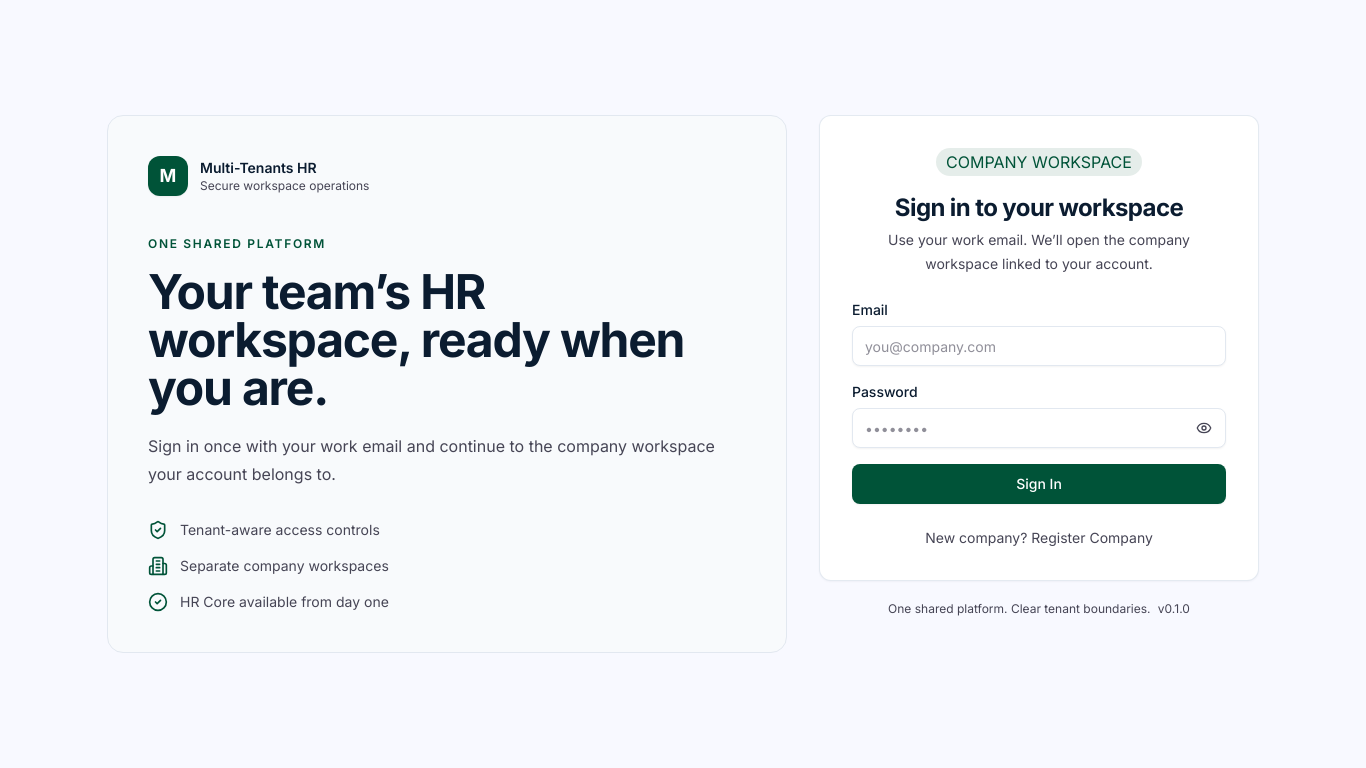
Test: public login on the marketing host › rejects an account with no active membership
The width and height of the screenshot is (1366, 768).
Type "james@hr.com" into the field labelled "Email" at (1039, 346), box left=852, top=326, right=1226, bottom=366
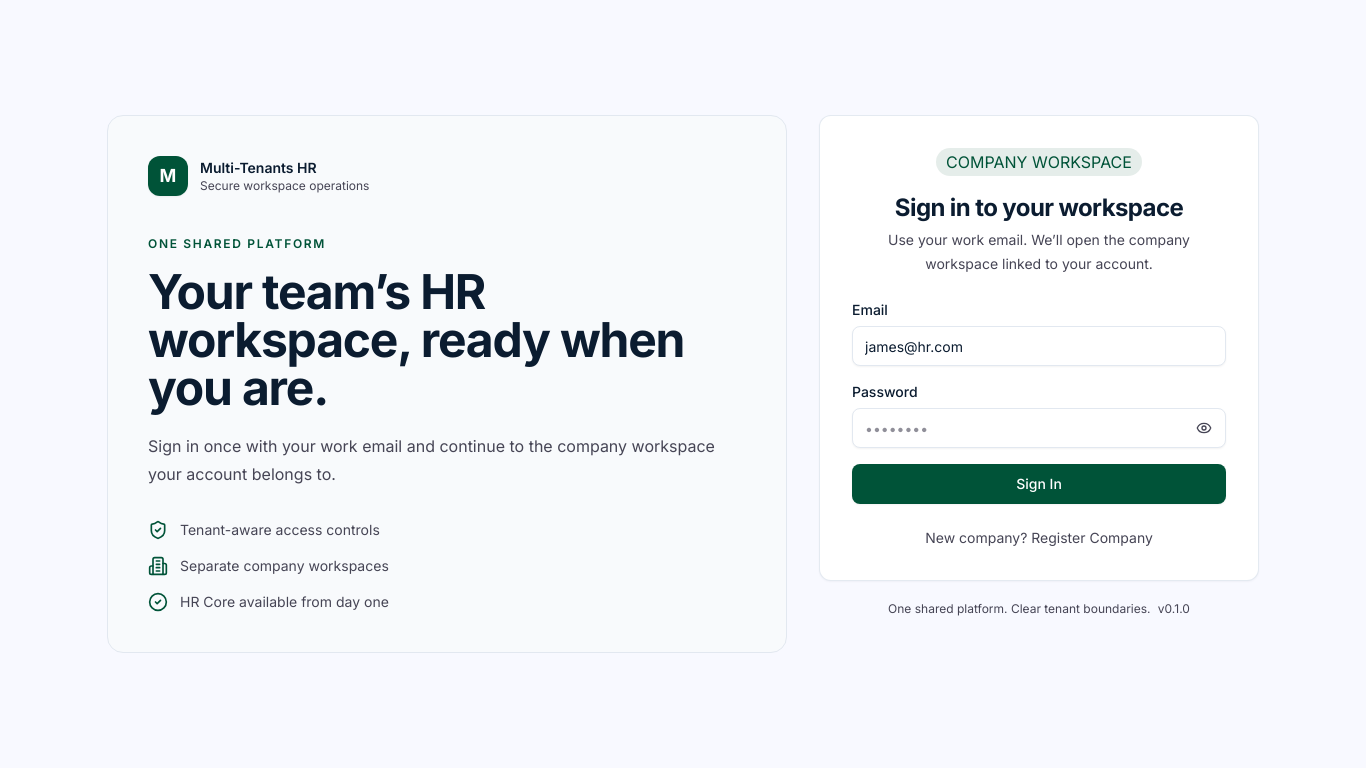
Type "password123" into the password field labelled "Password" at (1039, 428), box left=852, top=408, right=1226, bottom=448
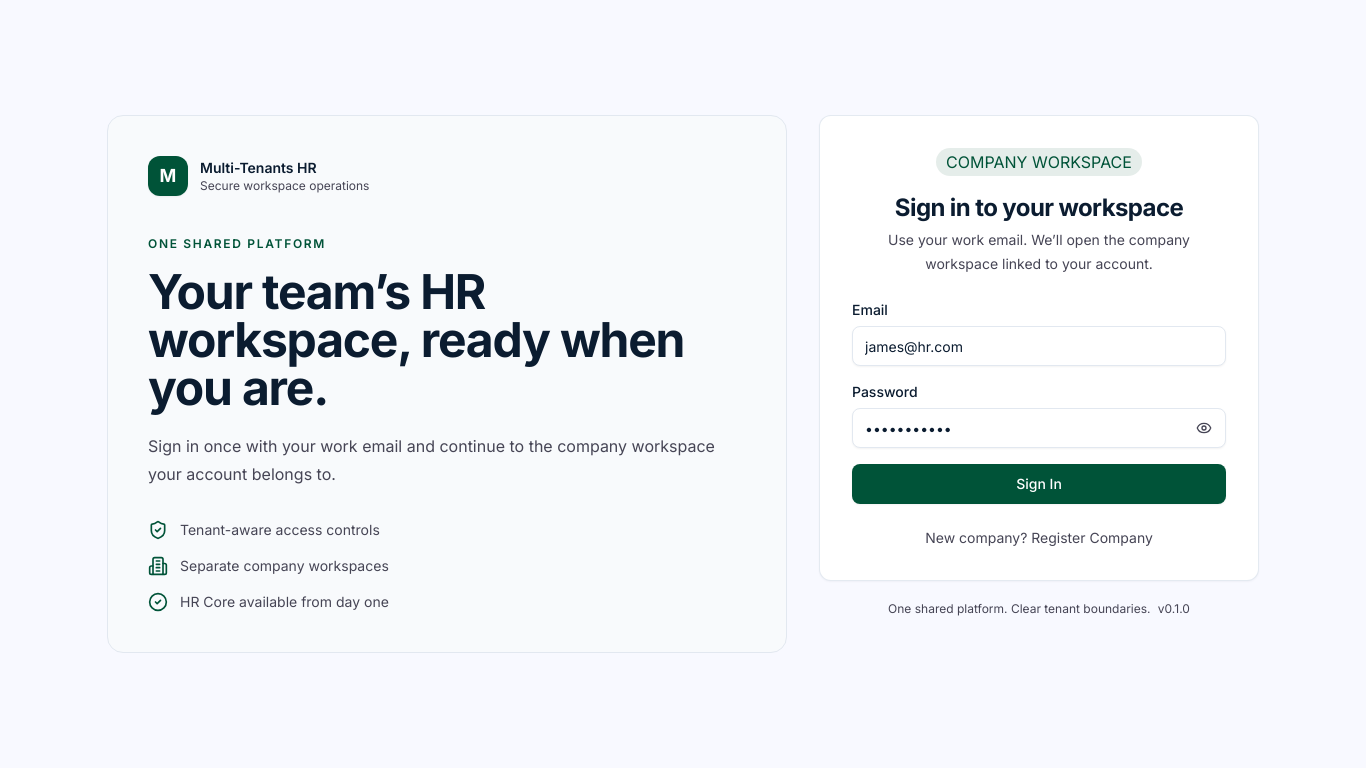
Click the button "Sign In" at (1039, 484), box left=852, top=464, right=1226, bottom=504
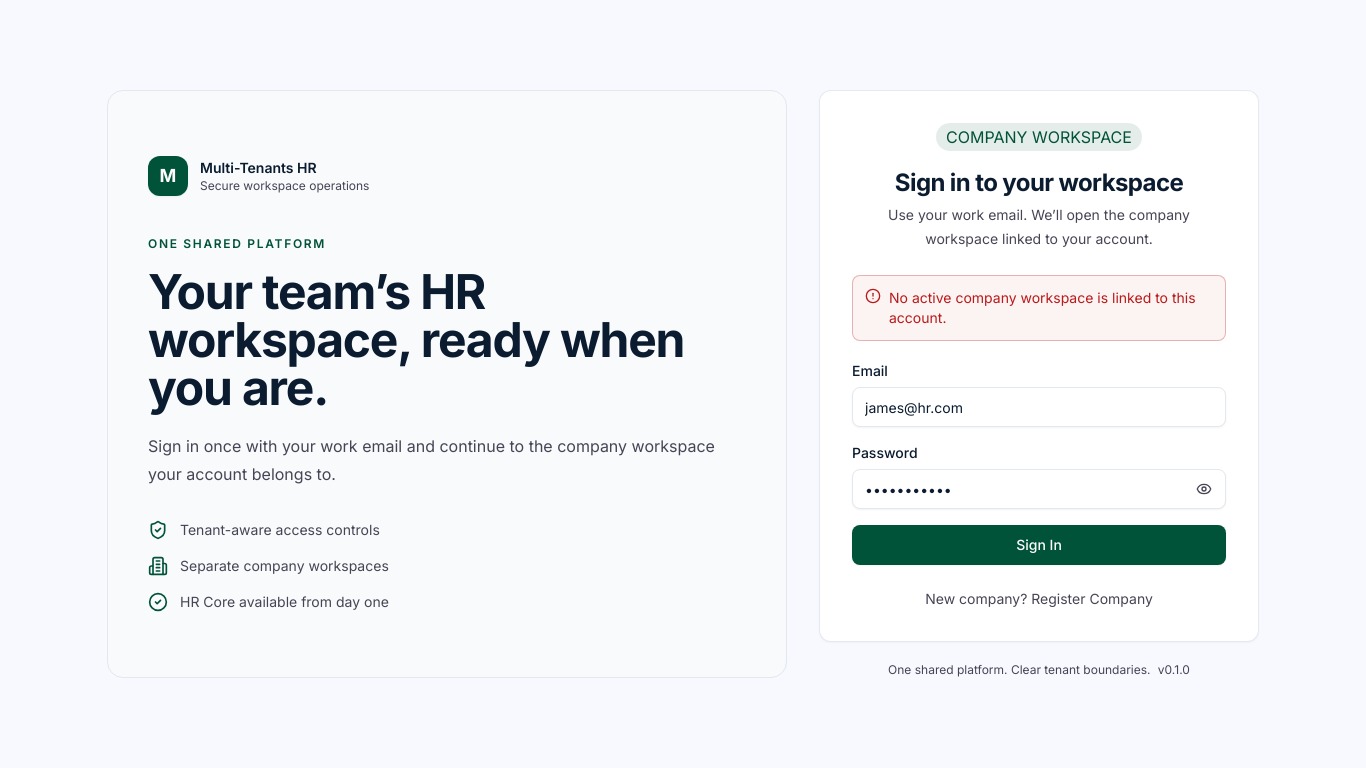
expect the message shows "No active company workspace": met, box left=889, top=289, right=1196, bottom=326
